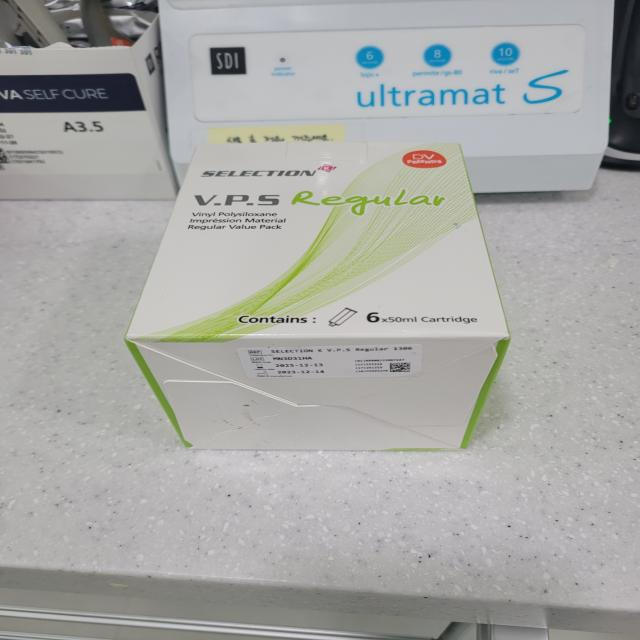impression: (120, 124, 556, 470)
